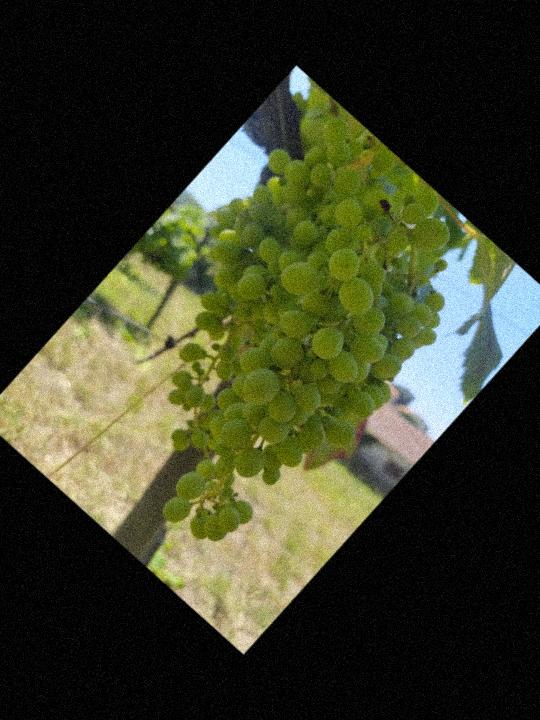grape: (39, 92, 515, 579)
